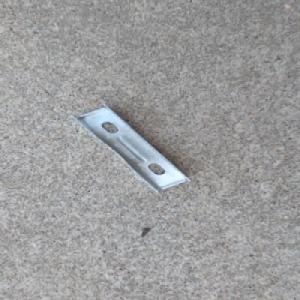ClampPart: (68, 102, 192, 193)
